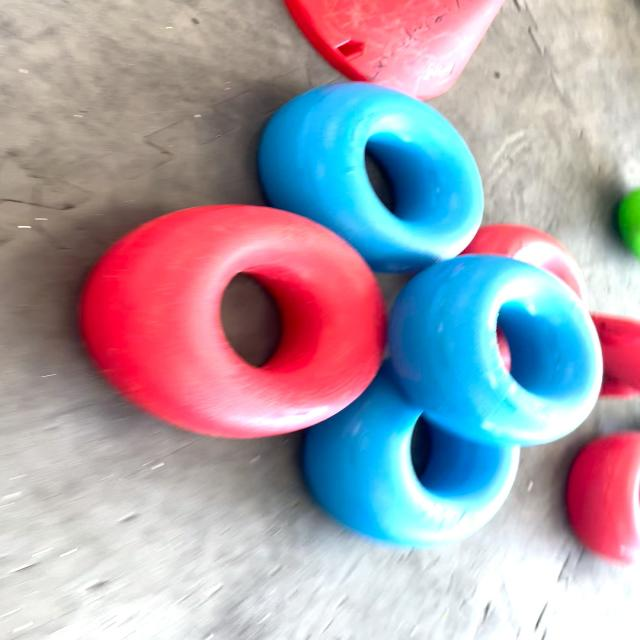Blue-Ring: (258, 82, 482, 272), (302, 361, 520, 549), (389, 255, 602, 446)
Red-Ring: (80, 205, 384, 439), (563, 431, 640, 567), (462, 224, 584, 298)
